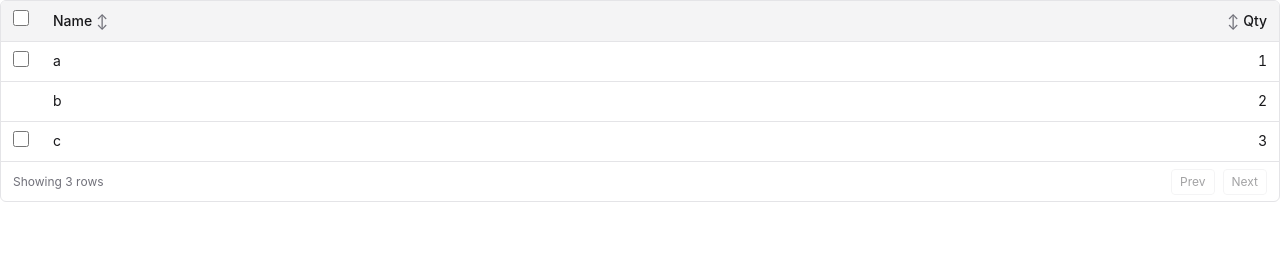
Test case: selection and the bulk bar › Clear selection empties it and returns focus to the header checkbox
The image size is (1280, 274).
What coordinates should you click on to do the following:
click the checkbox named "Select a"
I would click on:
 (21, 58)
Its box is top-left (13, 50), bottom-right (29, 66).
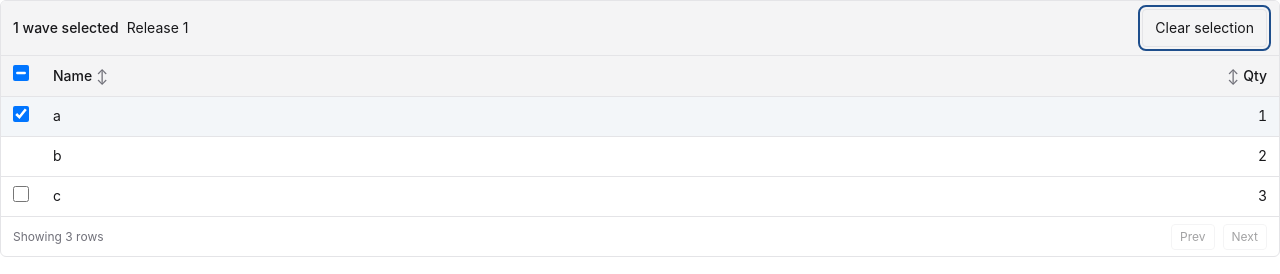
What coordinates should you click on to do the following:
click the button "Clear selection"
I would click on:
 (1205, 28)
Its box is top-left (1142, 9), bottom-right (1267, 47).
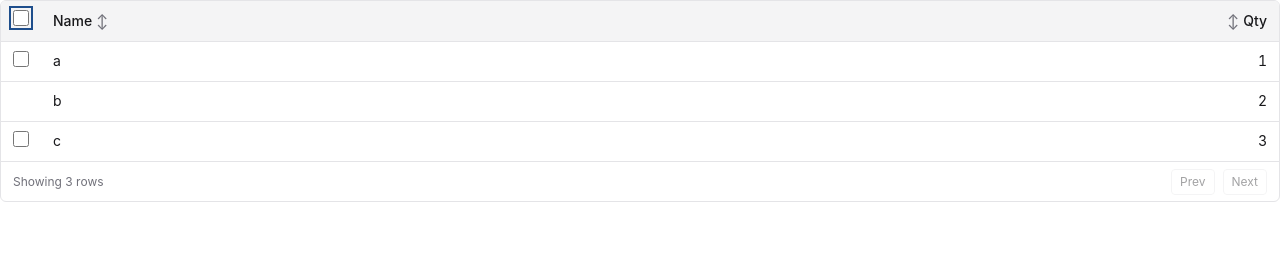
Expected: the element with test id "bulk-action-bar" is gone
